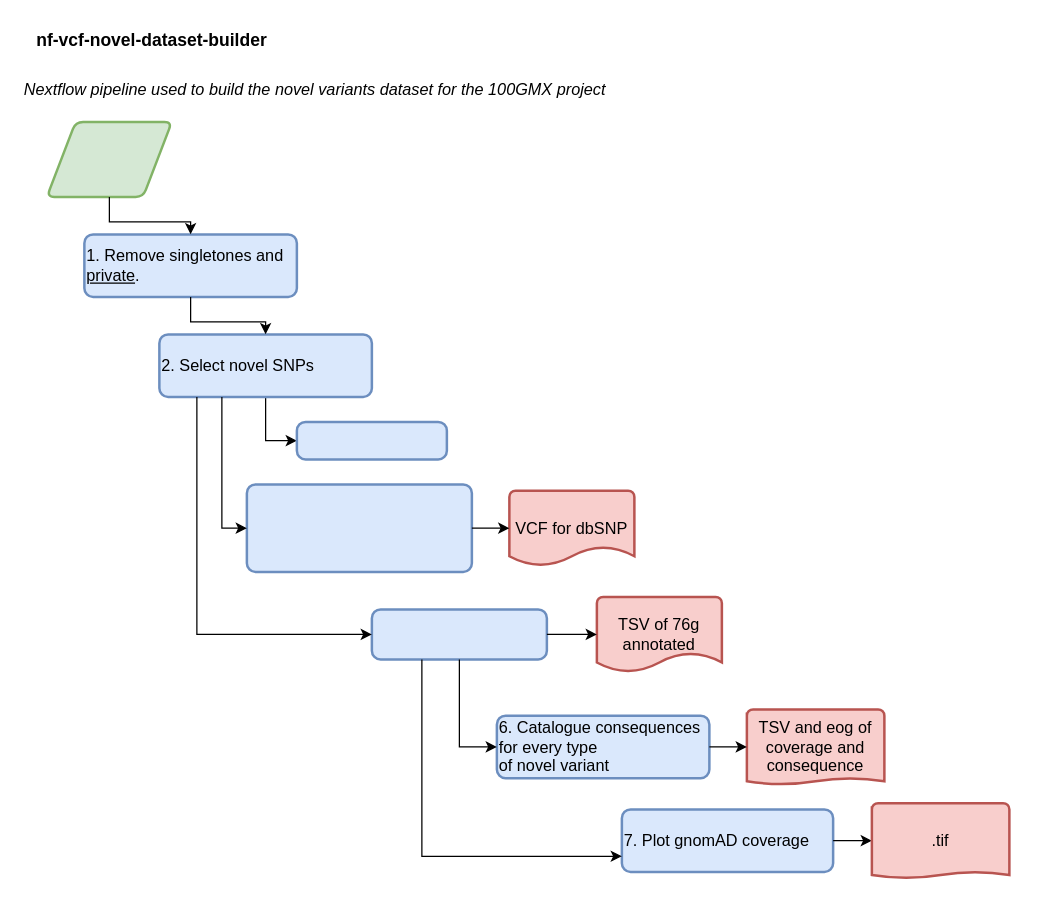
This 1043x900 diagram has some shape labels left out. Here are the shapes that lost their labels. From the top down, the centre of each, then its label:
[108,159]: 76g VCF annotated
[371,440]: * Count samples
[358,527]: 3. Remove genotypes. 4. Remove INFO, except AF and FILTER.
[459,634]: 5. Convert VCF to TSV
